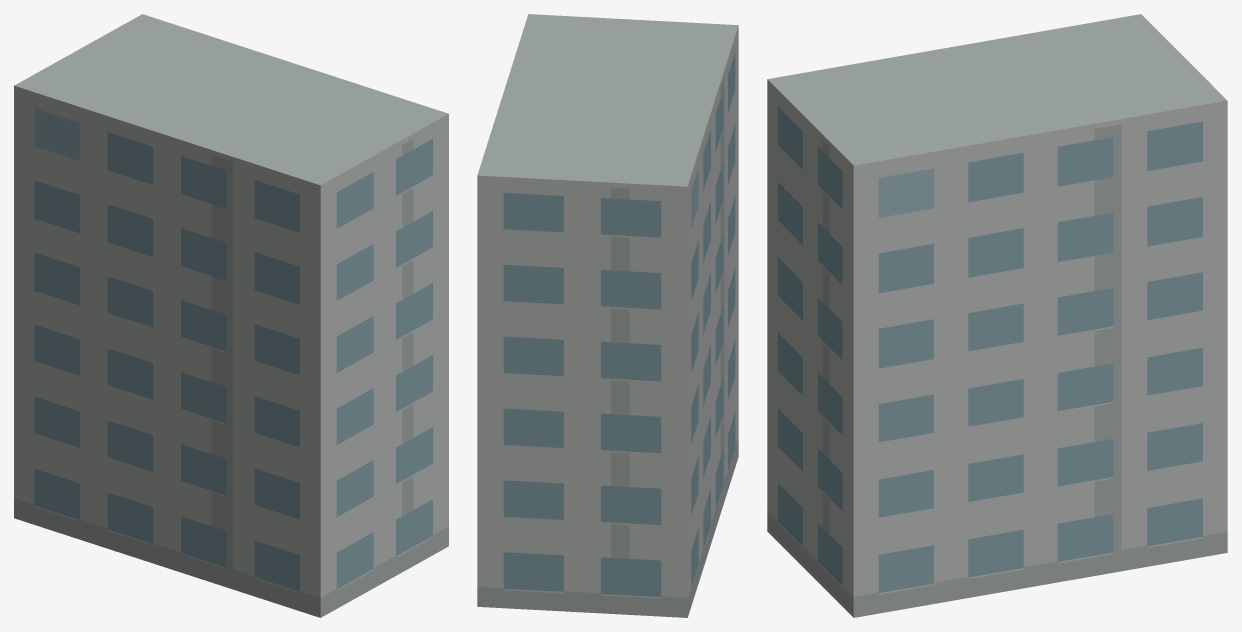
Rendered from survey-upis-32865463.glb.
3 views of the same model, side by side, from view 1: azimuth 30°, elevation 25°; view 2: azimuth 150°, elevation 25°; view 3: azimuth 270°, elevation 25° (orthographic). The views are drawn at different scales.
Parts seen in each view (by area): view 1: survey-upis-32865463.tmp; view 2: survey-upis-32865463.tmp; view 3: survey-upis-32865463.tmp.
Boxes of the visible parts, x1=… form: survey-upis-32865463.tmp: x1=14, y1=14, x2=448, y2=617; survey-upis-32865463.tmp: x1=477, y1=14, x2=738, y2=617; survey-upis-32865463.tmp: x1=767, y1=14, x2=1227, y2=617.
Bounding box in the file's own units: 14.98 × 20.82 × 19.21.
